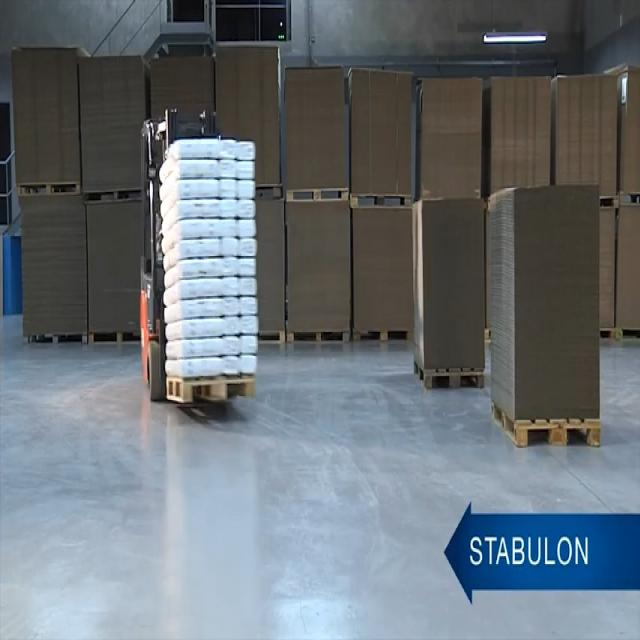Palette: (489, 403, 603, 456), (166, 370, 258, 410), (286, 180, 353, 215), (90, 320, 148, 359), (415, 364, 485, 396), (82, 184, 150, 215), (23, 320, 88, 351), (13, 178, 84, 206), (353, 324, 419, 352), (352, 187, 415, 216), (282, 328, 356, 347), (256, 317, 287, 352), (598, 323, 640, 344), (257, 174, 290, 198), (596, 190, 640, 207)
